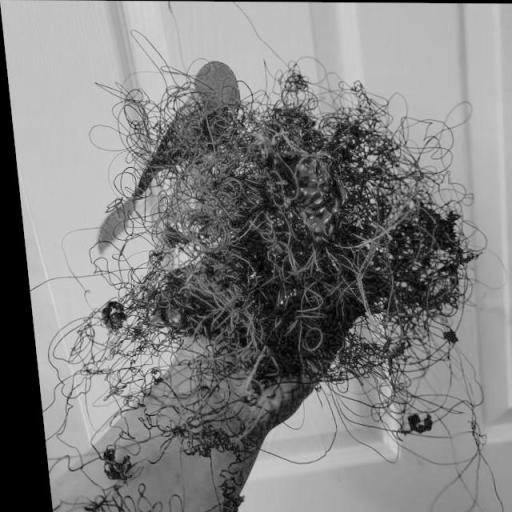spaghetti_and_stringing: (170, 236, 332, 373), (352, 111, 462, 236), (104, 83, 226, 181), (341, 229, 456, 332), (330, 338, 428, 445), (86, 298, 192, 390), (254, 58, 326, 180), (438, 338, 488, 484), (138, 398, 224, 460), (72, 438, 144, 512), (40, 325, 109, 388), (310, 104, 359, 178)
